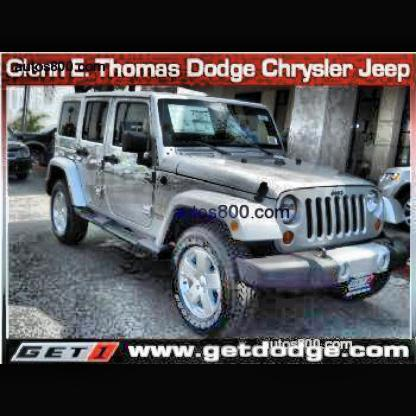Jeep Wrangler SUV 2012: (45, 90, 401, 337)
